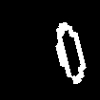chain: (55, 22, 85, 83)
